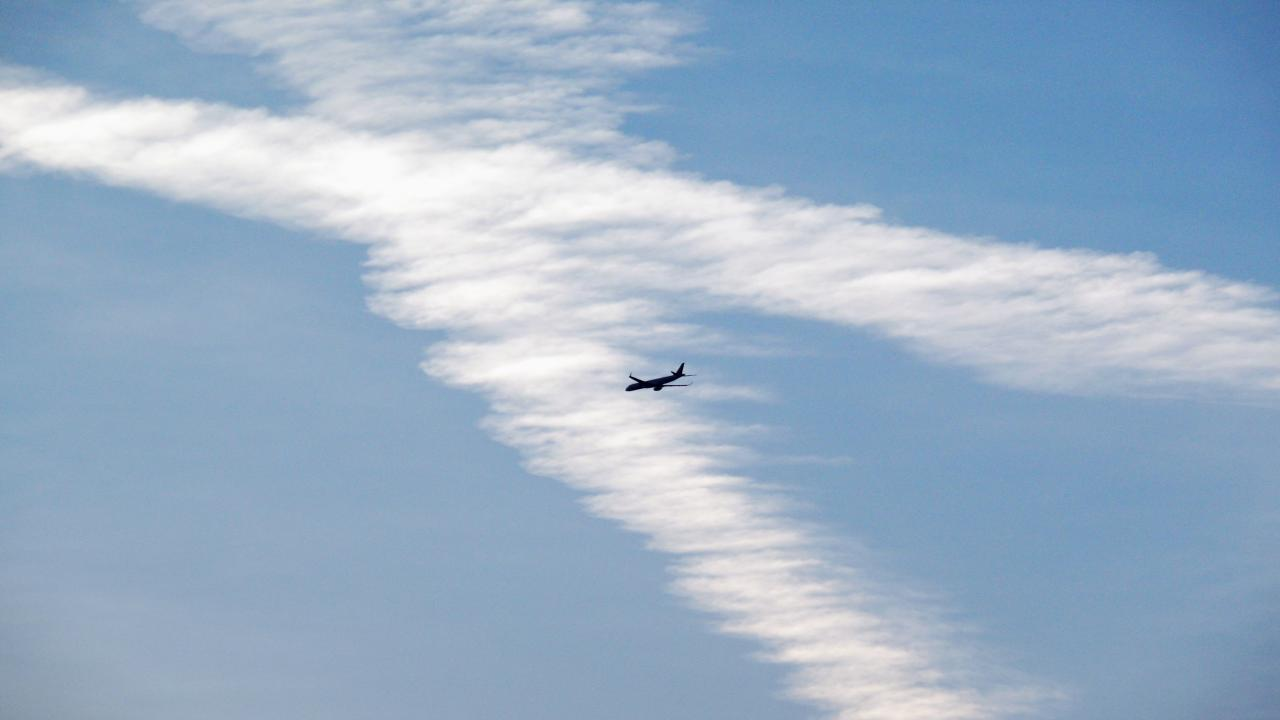Airplane: (612, 356, 702, 405)
